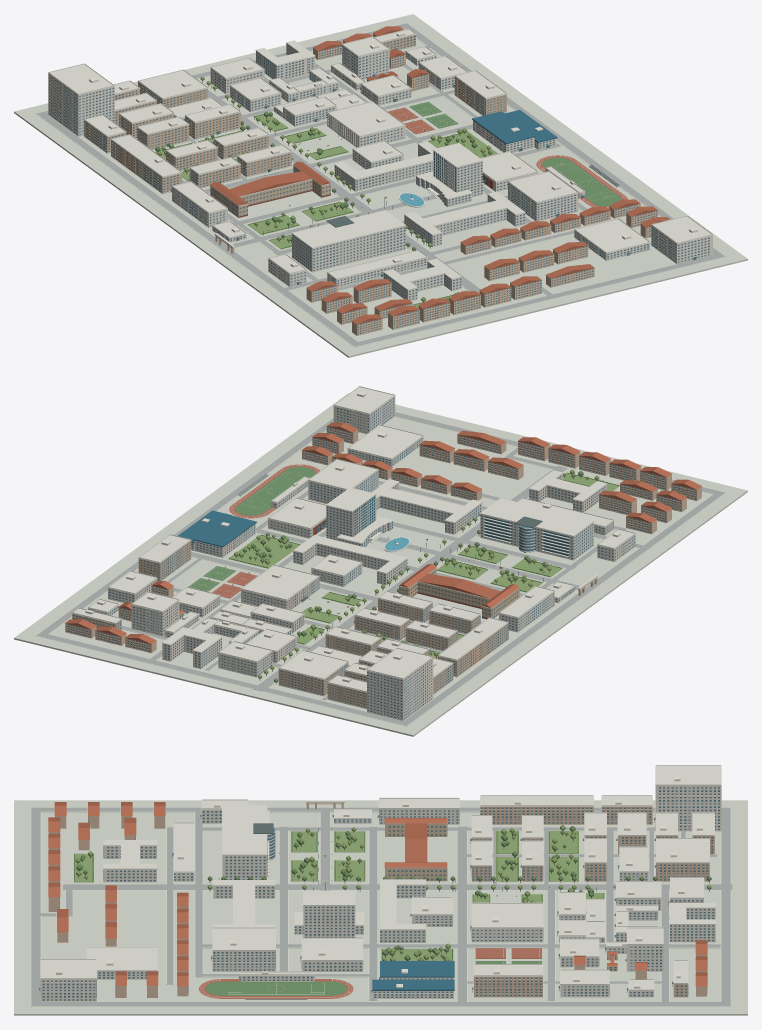
File: bupt-haidian.glb
The picture shows the model from 3 angles, top to bottom: view 1: azimuth 30°, elevation 25°; view 2: azimuth 150°, elevation 25°; view 3: azimuth 270°, elevation 25°; orthographic projection. The views are drawn at different scales.
Parts seen in each view (by area): view 1: Terrain_and_roads, teaching3, tech, Sports_and_plazas, Residential_context_8, teaching4, main, teaching2, Residential_context_3, innovation, library, mingguang (+37 smaller); view 2: Terrain_and_roads, teaching3, tech, Sports_and_plazas, Residential_context_8, teaching4, main, teaching2, library, Residential_context_3, teaching1, dorm10 (+36 smaller); view 3: Terrain_and_roads, teaching3, tech, Sports_and_plazas, library, dorm13, main, teaching4, innovation, mingguang, dorm29, teaching1 (+44 smaller).
Part boxes in pixels (box(x1,y1,x2,y2)): Terrain_and_roads: box(14, 14, 747, 357); teaching3: box(292, 210, 405, 272); tech: box(48, 63, 114, 136); Sports_and_plazas: box(310, 101, 627, 227); Residential_context_8: box(388, 276, 541, 329); teaching4: box(210, 161, 331, 217); main: box(415, 143, 482, 207); teaching2: box(404, 191, 525, 246); Residential_context_3: box(460, 199, 640, 254); innovation: box(508, 171, 578, 221); library: box(327, 101, 405, 147); mingguang: box(651, 215, 712, 263); Terrain_and_roads: box(14, 393, 747, 736); teaching3: box(480, 498, 594, 560); tech: box(366, 647, 433, 720); Sports_and_plazas: box(188, 464, 502, 598); Residential_context_8: box(518, 437, 671, 490); teaching4: box(398, 564, 519, 619); main: box(326, 487, 393, 547); teaching2: box(371, 479, 482, 534); library: box(241, 564, 319, 609); Residential_context_3: box(302, 446, 481, 500); teaching1: box(293, 535, 407, 585); dorm10: box(278, 650, 348, 696); Terrain_and_roads: box(14, 800, 747, 1015); teaching3: box(222, 804, 275, 879); tech: box(654, 765, 721, 831); Sports_and_plazas: box(199, 853, 541, 998); library: box(470, 902, 543, 942); dorm13: box(480, 795, 593, 824); main: box(294, 889, 364, 937); teaching4: box(384, 818, 447, 881); innovation: box(211, 927, 275, 971); mingguang: box(39, 959, 96, 1001); dorm29: box(472, 964, 543, 997); teaching1: box(379, 879, 426, 942).
Bounding box in the file's own units: 550 × 59.9 × 798.
